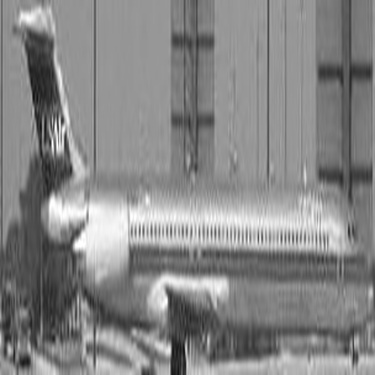airplane: (3, 1, 369, 373)
